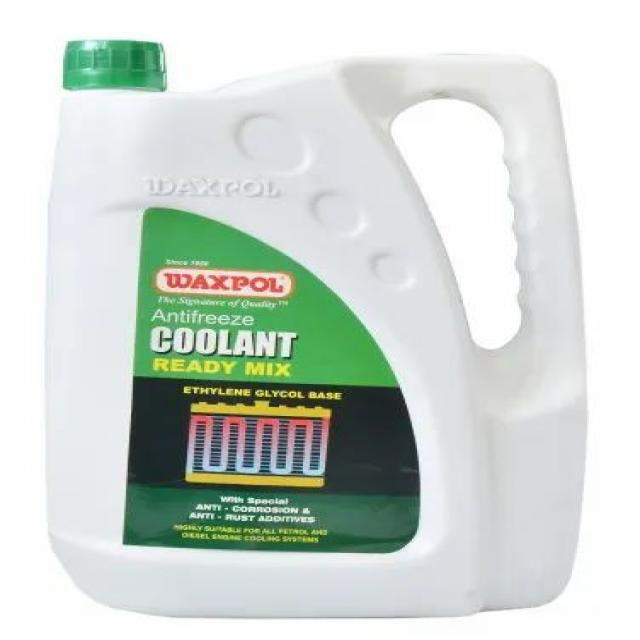coolant: (31, 28, 591, 626)
